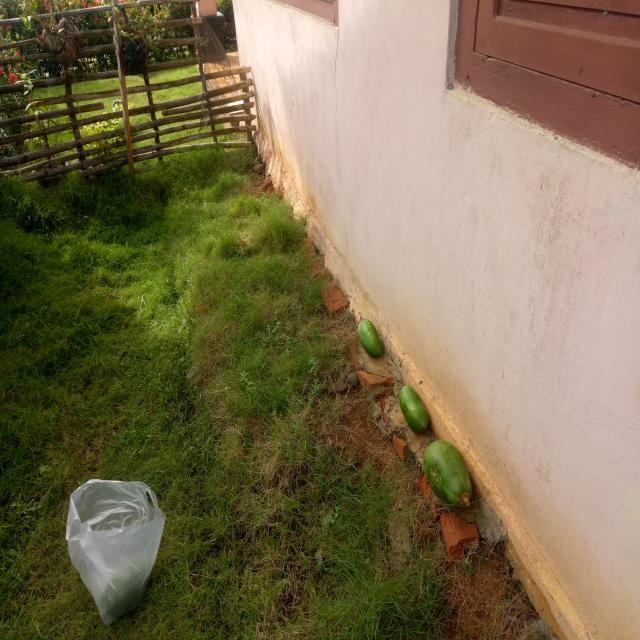Pepaya unrippen: (422, 438, 473, 508), (342, 315, 388, 359), (391, 378, 427, 433)
